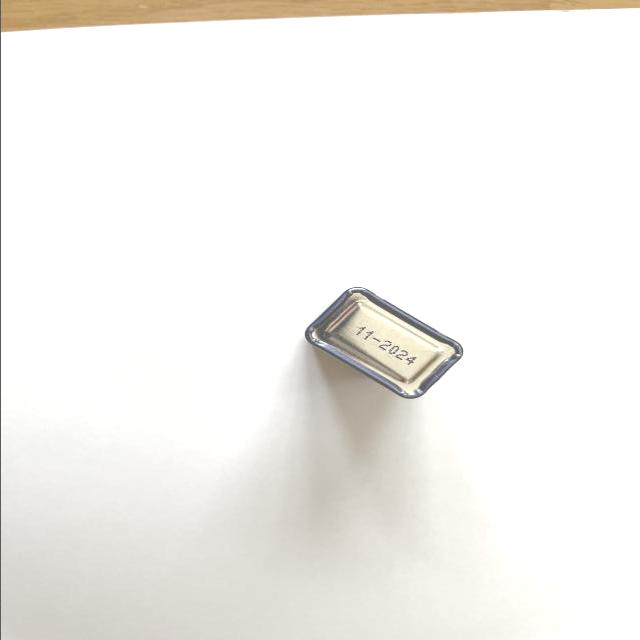9V: (303, 286, 464, 399)
